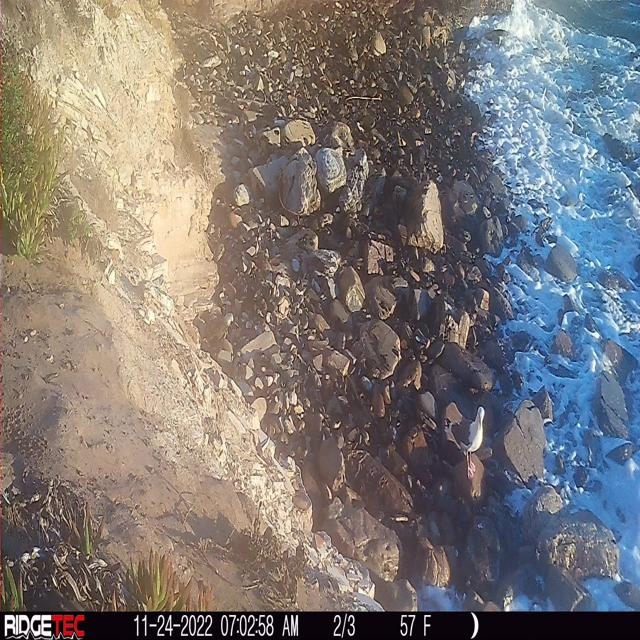bird: (438, 388, 496, 489)
